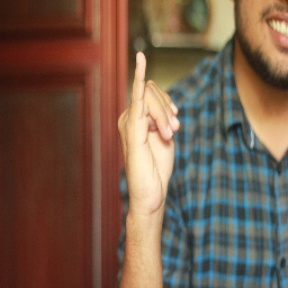I: (118, 47, 183, 216)
